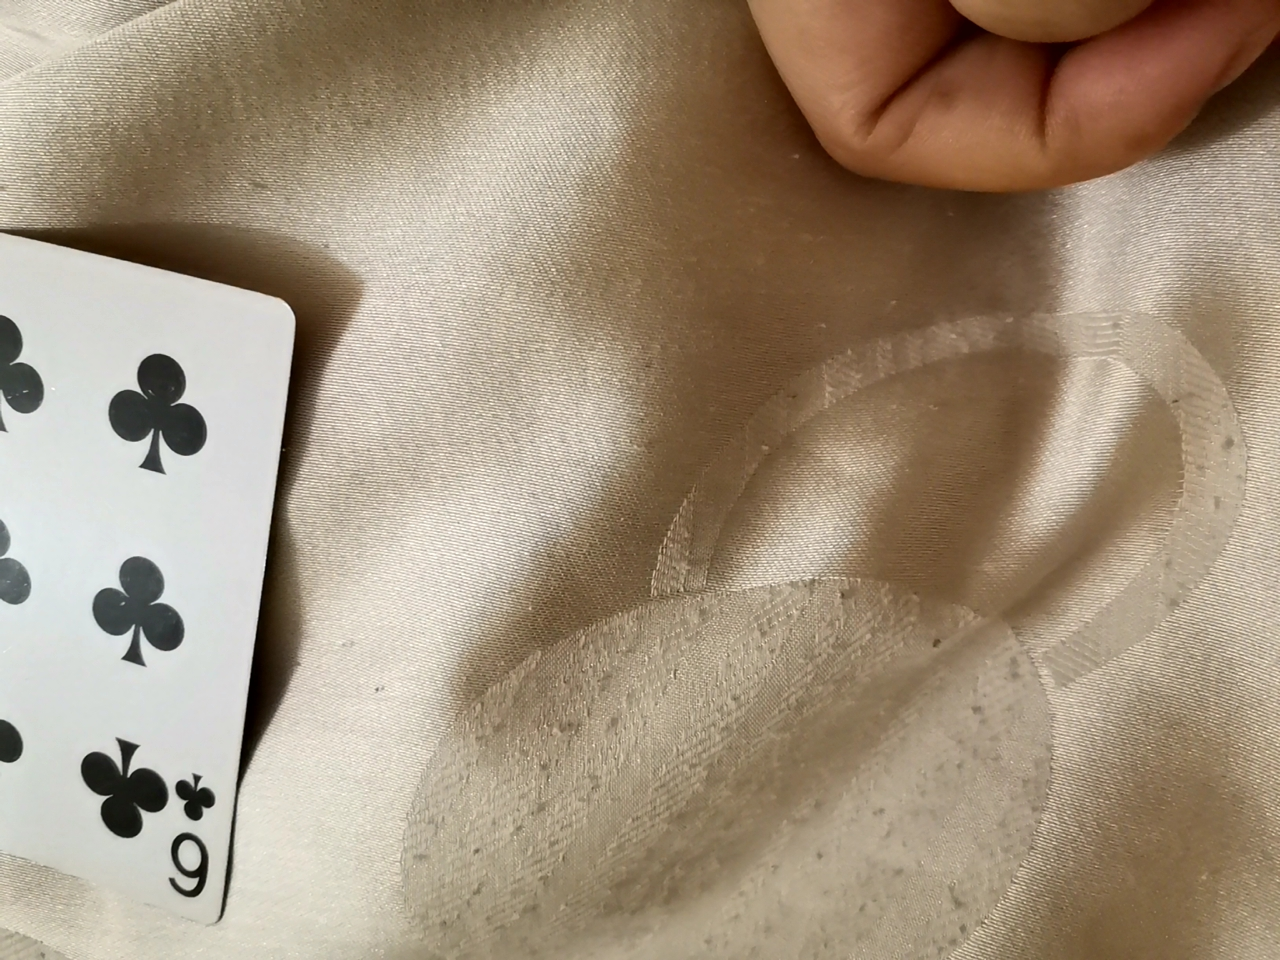mh 6: (0, 199, 269, 931)
